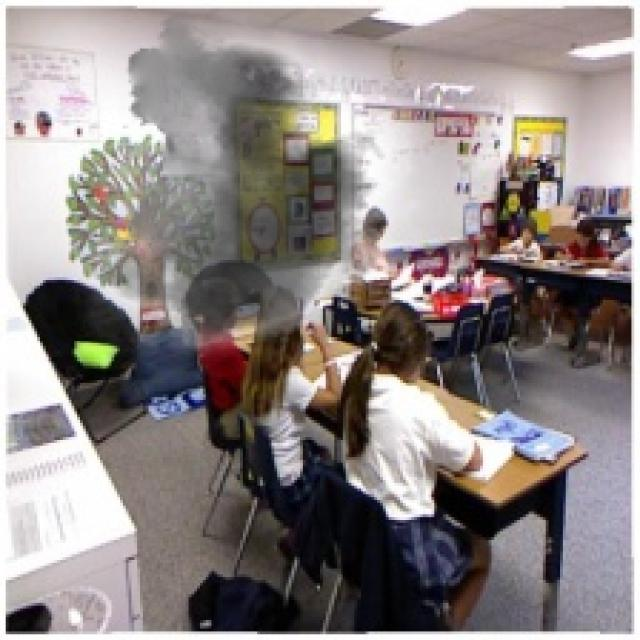smoke: (14, 12, 437, 374)
